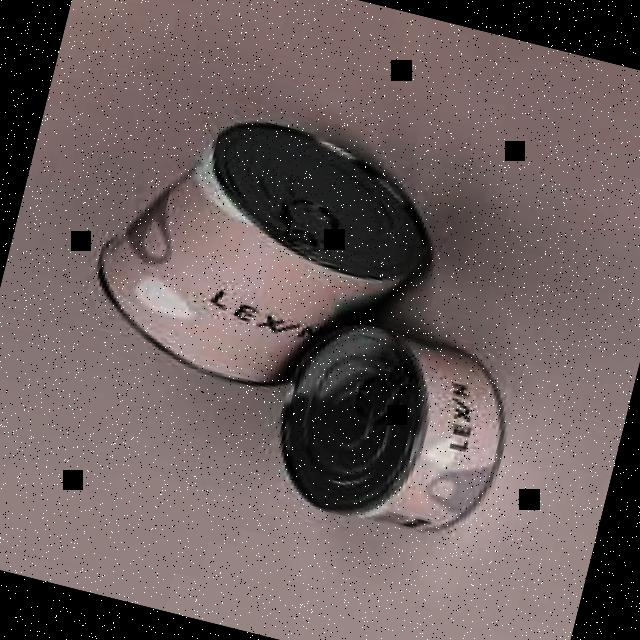can: (76, 90, 452, 421), (248, 305, 520, 550)
